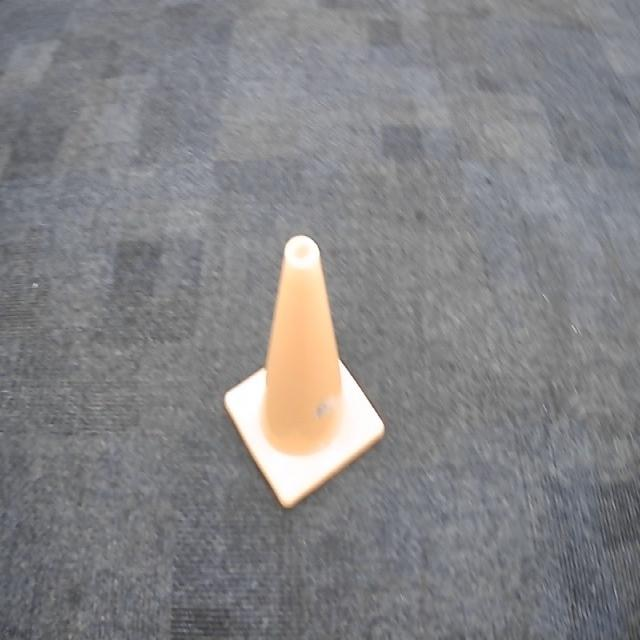cone: (223, 235, 387, 508)
